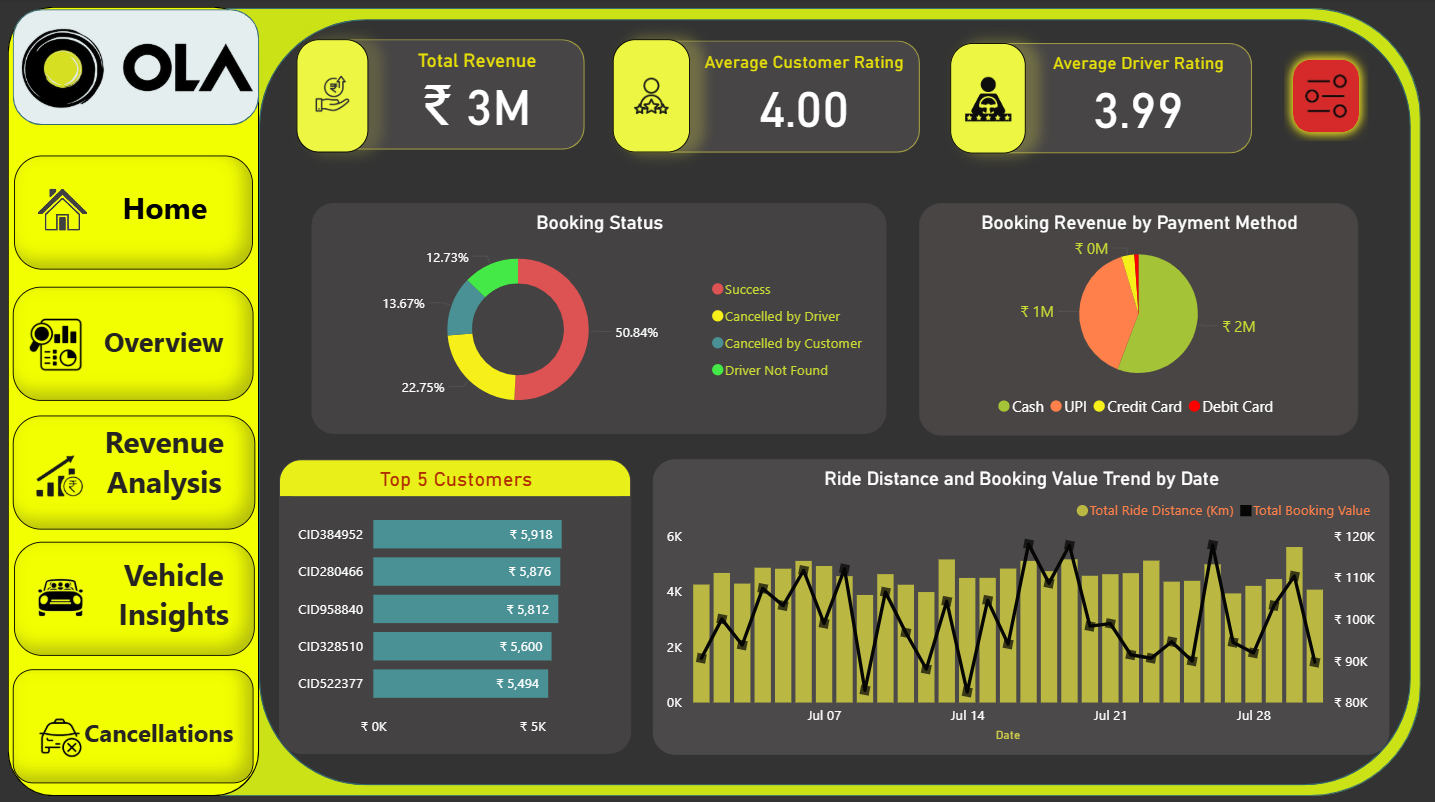

The dashboard page shown, as its layout file describes it:
{"tool":"powerbi","page":{"name":"Revenue Analysis","canvas":[1280,720],"ordinal":2},"visuals":[{"type":"shape","box":[12.3,8.6,1254,701.8],"z":0},{"type":"group","id":"g1","title":"Group 3","box":[264.8,37,256.6,100.2],"z":0,"group":"g4"},{"type":"shape","box":[264.8,37,256.6,98.4],"z":0,"group":"g1"},{"type":"shape","box":[546.9,38.4,273.6,99.9],"z":0,"group":"g3"},{"type":"shape","box":[847.3,40.4,268.9,98.4],"z":0,"group":"g2"},{"type":"shape","box":[231.9,18.4,1025.8,682.2],"z":1000},{"type":"group","id":"g2","title":"Group 1","box":[847.3,40.4,269,98.3],"z":1000,"group":"g4"},{"type":"card","title":"Total Revenue","fields":{"Values":["Sum(Booking.Booking_Value)"]},"box":[329,46.3,192.5,75.2],"z":1000,"group":"g1"},{"type":"card","title":"Average Customer Rating","fields":{"Values":["Avg(Booking.Customer_Rating)"]},"box":[615.3,47.8,205.2,76.4],"z":1000,"group":"g3"},{"type":"card","title":"Average Driver Rating","fields":{"Values":["Avg(Booking.Driver_Rating)"]},"box":[914.5,49.7,201.7,75.2],"z":1000,"group":"g2"},{"type":"image","box":[264.8,37,64.2,100.7],"z":2000,"group":"g1"},{"type":"group","id":"g3","title":"Group 2","box":[546.9,37.1,273.6,101.1],"z":2000,"group":"g4"},{"type":"image","box":[546.9,37.1,68.7,100.9],"z":2000,"group":"g3"},{"type":"image","box":[847.3,40.4,67.5,98.2],"z":2000,"group":"g2"},{"type":"lineStackedColumnComboChart","title":"Ride Distance and Booking Value Trend by Date","fields":{"Y":["Sum(Booking.Ride_Distance (Km))"],"Category":["Booking.Date"],"Y2":["Sum(Booking.Booking_Value)"]},"box":[581.8,410.3,655.9,263.5],"z":2000},{"type":"barChart","title":"Top 5 Customers","fields":{"Y":["Sum(Booking.Booking_Value)"],"Category":["Booking.Customer_ID"]},"box":[249.4,410.8,313.9,262.7],"z":3000},{"type":"pieChart","title":"Booking Revenue by Payment Method","fields":{"Y":["Sum(Booking.Booking_Value)"],"Category":["Booking.Payment_Method"]},"box":[819.5,182.3,391,207.3],"z":4000},{"type":"donutChart","title":"Booking Status","fields":{"Category":["Booking.Booking_Status"],"Y":["CountNonNull(Booking.Booking_ID)"]},"box":[278.6,182.5,511.8,205.8],"z":5000},{"type":"actionButton","box":[1144.8,46.6,74.8,81],"z":6000},{"type":"shape","box":[8.3,8.3,223.8,703],"z":7000},{"type":"shape","box":[12.7,9.7,219.4,103.2],"z":8000},{"type":"image","box":[13.9,11,218.2,103.2],"z":9000},{"type":"group","id":"g4","title":"Group 2","box":[264.8,37,851.5,101.8],"z":10000},{"type":"image","box":[20.9,371.5,62.6,101.6],"z":11000},{"type":"textbox","box":[73,371.4,147.4,84.6],"z":12000},{"type":"actionButton","box":[12.5,371.5,215.7,101.6],"z":13000},{"type":"image","box":[20.9,257.4,58.4,103],"z":14000},{"type":"textbox","box":[72.3,285.2,148.9,55.7],"z":15000},{"type":"actionButton","box":[12.5,257.4,214.3,101.6],"z":16000},{"type":"textbox","box":[89.6,490.2,130.8,86.8],"z":17000},{"type":"image","box":[23.5,483,61.9,102.7],"z":18000},{"type":"actionButton","box":[13.9,484.2,214.3,101.6],"z":19000},{"type":"image","box":[25.3,608.3,57,101.6],"z":20000},{"type":"textbox","box":[57,634.4,171.1,50.1],"z":21000},{"type":"actionButton","box":[12.5,598.3,214.3,101.6],"z":22000},{"type":"image","box":[19.5,140.5,75.1,100.2],"z":23000},{"type":"textbox","box":[91.8,164.2,112.7,51.5],"z":24000},{"type":"actionButton","box":[13.9,140.5,212.9,101.6],"z":25000}]}

Visuals, with their boxes in screenshot pixels (x1, y1, x2, y2), scaled from the page's 1280x720 canvas onto the 1435x802 screenshot:
shape: detection(14, 10, 1420, 791)
"Group 3" group: detection(297, 41, 585, 153)
shape: detection(297, 41, 585, 151)
shape: detection(613, 43, 920, 154)
shape: detection(950, 45, 1251, 155)
shape: detection(260, 20, 1410, 780)
"Group 1" group: detection(950, 45, 1251, 154)
"Total Revenue" card: detection(369, 52, 585, 135)
"Average Customer Rating" card: detection(690, 53, 920, 138)
"Average Driver Rating" card: detection(1025, 55, 1251, 139)
image: detection(297, 41, 369, 153)
"Group 2" group: detection(613, 41, 920, 154)
image: detection(613, 41, 690, 154)
image: detection(950, 45, 1026, 154)
"Ride Distance and Booking Value Trend by Date" lineStackedColumnComboChart: detection(652, 457, 1388, 751)
"Top 5 Customers" barChart: detection(280, 458, 632, 750)
"Booking Revenue by Payment Method" pieChart: detection(919, 203, 1357, 434)
"Booking Status" donutChart: detection(312, 203, 886, 433)
actionButton: detection(1283, 52, 1367, 142)
shape: detection(9, 9, 260, 792)
shape: detection(14, 11, 260, 126)
image: detection(16, 12, 260, 127)
"Group 2" group: detection(297, 41, 1251, 155)
image: detection(23, 414, 94, 527)
textbox: detection(82, 414, 247, 508)
actionButton: detection(14, 414, 256, 527)
image: detection(23, 287, 89, 401)
textbox: detection(81, 318, 248, 380)
actionButton: detection(14, 287, 254, 400)
textbox: detection(100, 546, 247, 643)
image: detection(26, 538, 96, 652)
actionButton: detection(16, 539, 256, 653)
image: detection(28, 678, 92, 791)
textbox: detection(64, 707, 256, 762)
actionButton: detection(14, 666, 254, 780)
image: detection(22, 157, 106, 268)
textbox: detection(103, 183, 229, 240)
actionButton: detection(16, 157, 254, 270)
